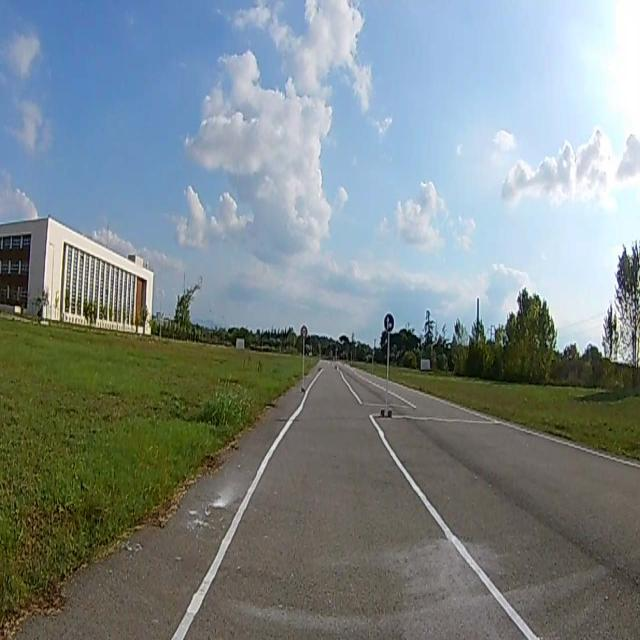ilerisag: (384, 315, 394, 333)
